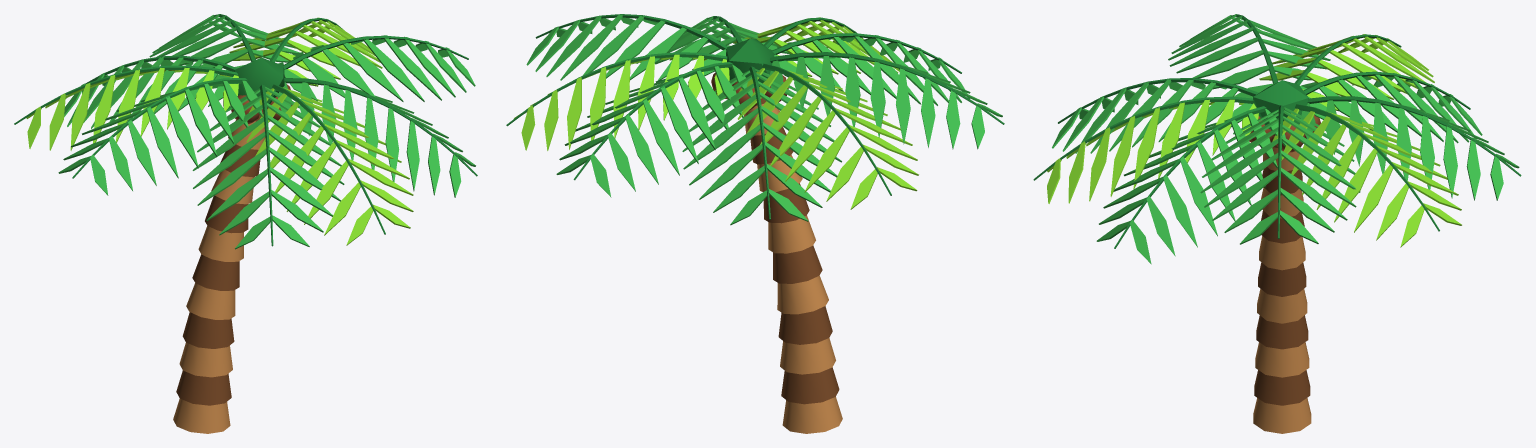
File: lobby_palm.obj
3 renders of one model, left to right at view 1: azimuth 30°, elevation 25°; view 2: azimuth 150°, elevation 25°; view 3: azimuth 270°, elevation 25°, orthographic. The views are drawn at different scales.
Visible parts, largest first — view 1: lobby_palm; view 2: lobby_palm; view 3: lobby_palm.
Part boxes in pixels (x1,y1,x2,y2): lobby_palm: (14,14,477,433); lobby_palm: (506,14,1004,433); lobby_palm: (1033,14,1521,433).
Bounding box in the file's own units: 14.11 × 11.29 × 13.43.
1 material, 1 textured.
